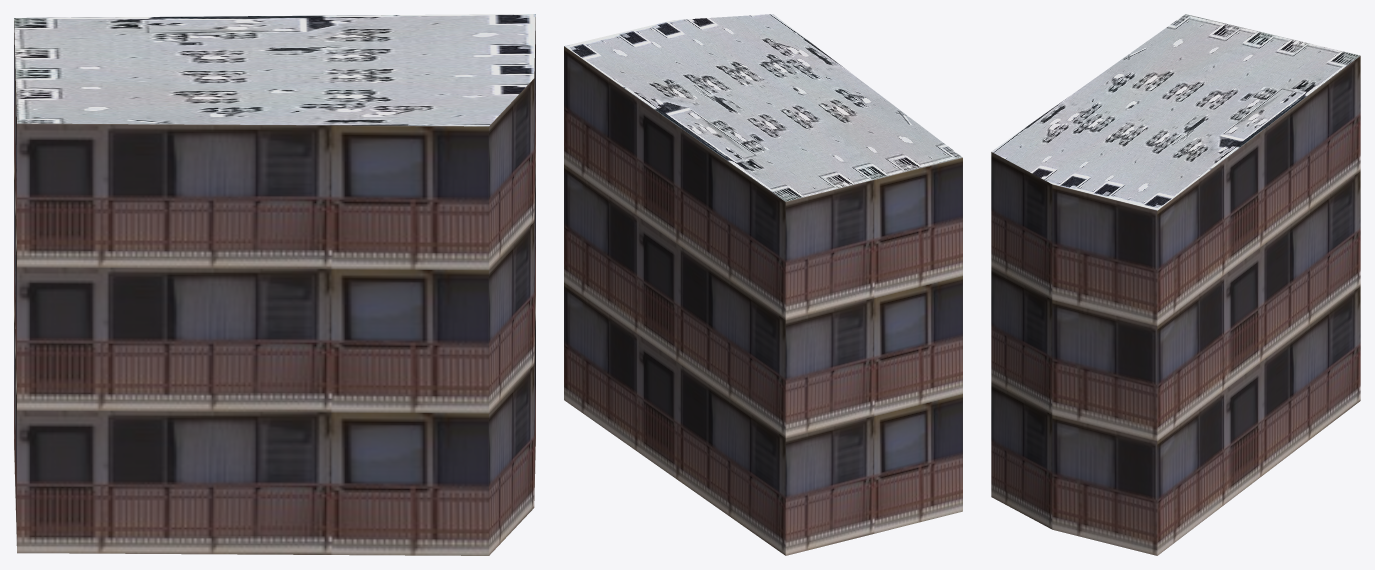
File: ResTex__3330.fbx
3 views of the same model, side by side, from view 1: azimuth 30°, elevation 25°; view 2: azimuth 150°, elevation 25°; view 3: azimuth 270°, elevation 25° (orthographic). The views are drawn at different scales.
Visible parts, largest first — view 1: CityEngineMaterial_6_m, CityEngineMaterial_8_m; view 2: CityEngineMaterial_6_m, CityEngineMaterial_8_m; view 3: CityEngineMaterial_6_m, CityEngineMaterial_8_m.
Boxes of the visible parts, bbox=[...] form: CityEngineMaterial_6_m: bbox=[14, 17, 535, 555]; CityEngineMaterial_8_m: bbox=[14, 14, 535, 126]; CityEngineMaterial_6_m: bbox=[564, 46, 962, 555]; CityEngineMaterial_8_m: bbox=[564, 14, 962, 201]; CityEngineMaterial_6_m: bbox=[991, 56, 1360, 555]; CityEngineMaterial_8_m: bbox=[991, 14, 1360, 210].
Bounding box in the file's own units: 10.99 × 9 × 8.72.
Materials: 2 (2 with a texture image).
